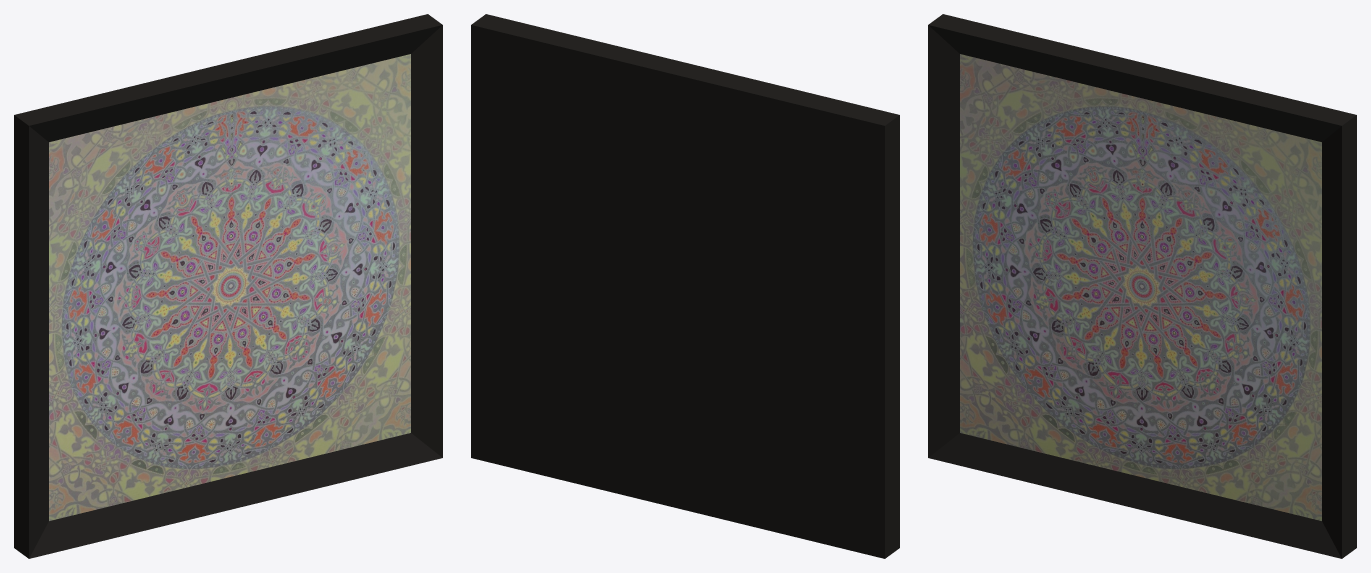
Rendered from tridecagon-moon-star-tridecagon-coral-reef-a2-stained-black-v2.glb.
3 views of the same model, side by side, from view 1: azimuth 30°, elevation 25°; view 2: azimuth 150°, elevation 25°; view 3: azimuth 330°, elevation 25° (orthographic).
Parts seen in each view (by area): view 1: FramedPrint; view 2: FramedPrint; view 3: FramedPrint.
Part boxes in pixels (x1,y1,x2,y2): FramedPrint: (14, 14, 442, 558); FramedPrint: (471, 14, 899, 558); FramedPrint: (928, 14, 1356, 558).
Bounding box in the file's own units: 0.48 × 0.48 × 0.03.
2 materials, 1 textured.
